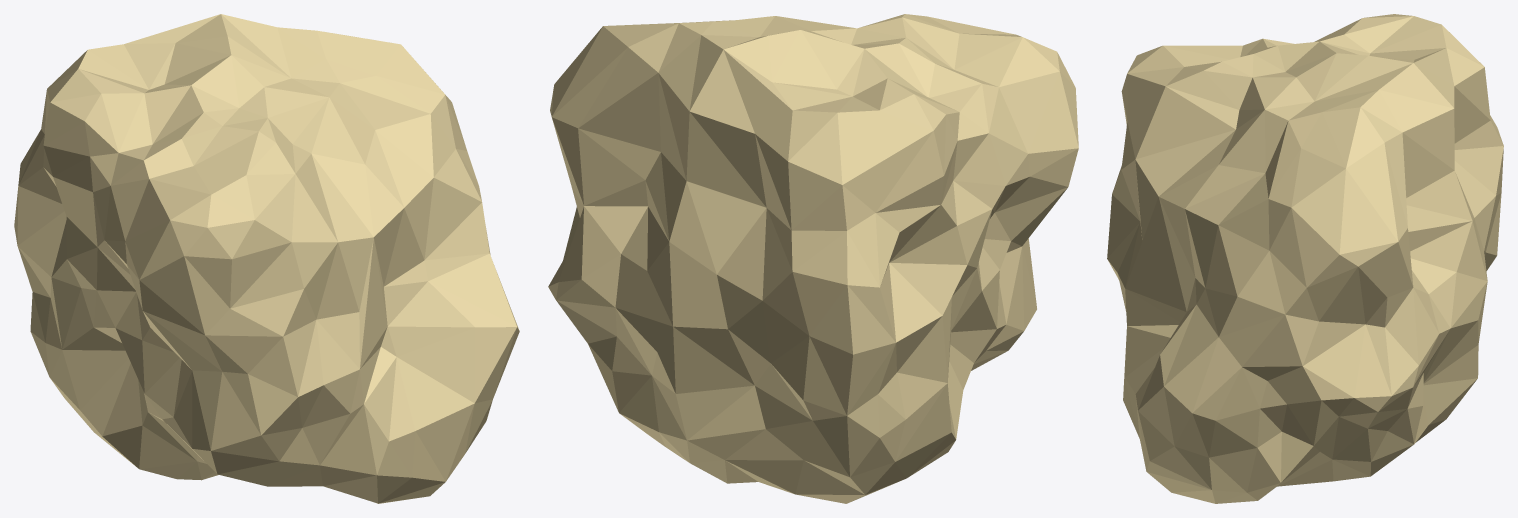
The model's file is Asteroid (33).fbx.
The picture shows the model from 3 angles, left to right: view 1: azimuth 30°, elevation 25°; view 2: azimuth 150°, elevation 25°; view 3: azimuth 270°, elevation 25°; orthographic projection. The views are drawn at different scales.
Parts seen in each view (by area): view 1: Asteroid110; view 2: Asteroid110; view 3: Asteroid110.
Part boxes in pixels (x1,y1,x2,y2): Asteroid110: [14, 14, 519, 503]; Asteroid110: [548, 14, 1078, 503]; Asteroid110: [1107, 14, 1503, 503].
Size of the model in its own units: 246 by 250 by 225.
